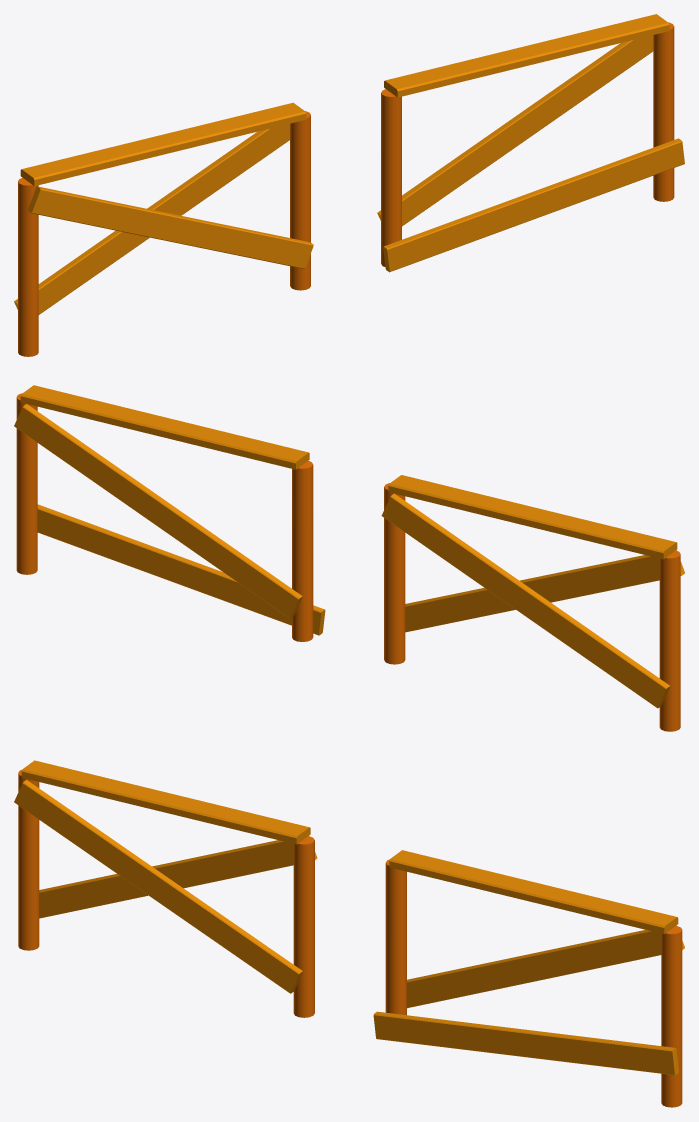
Rendered from Fence.fbx.
3 renders of one model, top to bottom at view 1: azimuth 30°, elevation 25°; view 2: azimuth 150°, elevation 25°; view 3: azimuth 330°, elevation 25°, orthographic.
Parts seen in each view (by area): view 1: Cube.007, Cube.003, Cylinder.001, Cylinder.006; view 2: Cube.007, Cube.003, Cylinder.006, Cylinder.001; view 3: Cube.007, Cube.003, Cylinder.001, Cylinder.006.
Boxes of the visible parts, <box> form: Cube.007: <box>377,14,684,272</box>; Cube.003: <box>14,102,313,314</box>; Cylinder.001: <box>18,111,310,356</box>; Cylinder.006: <box>381,22,674,266</box>; Cube.007: <box>14,385,325,635</box>; Cube.003: <box>381,475,684,708</box>; Cylinder.006: <box>16,393,313,641</box>; Cylinder.001: <box>384,483,680,731</box>; Cube.007: <box>373,850,684,1075</box>; Cube.003: <box>14,760,317,993</box>; Cylinder.001: <box>18,770,314,1017</box>; Cylinder.006: <box>385,859,682,1107</box>.
Size of the model in its own units: 7261 by 1892 by 348.
